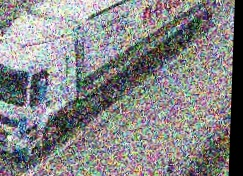truck: (0, 0, 217, 165)
